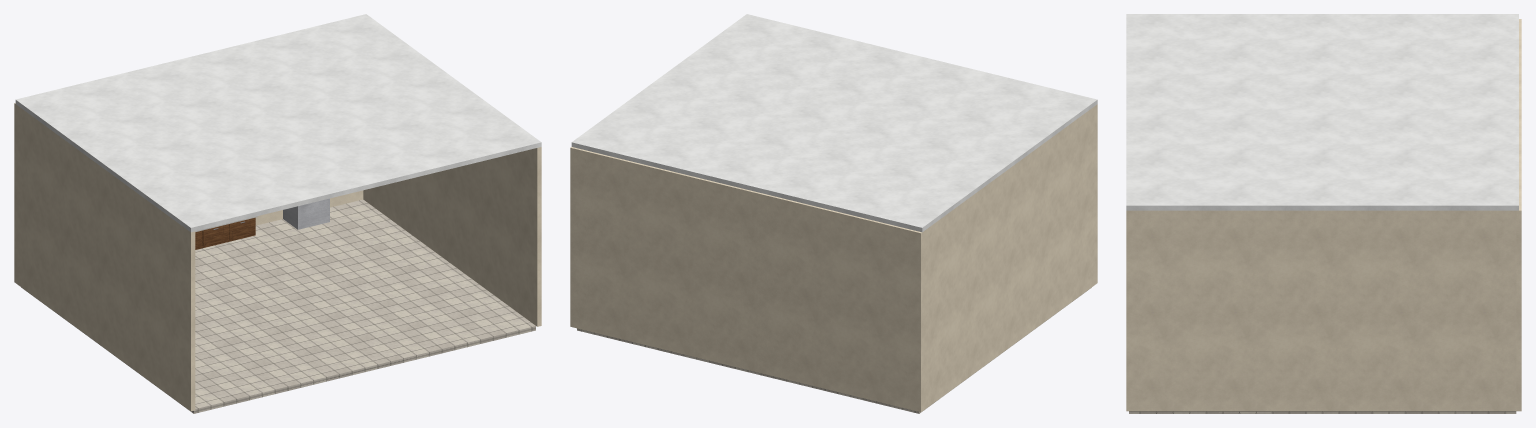
Rendered from PROP_BG_KITCHEN.glb.
3 renders of one model, left to right at view 1: azimuth 30°, elevation 25°; view 2: azimuth 150°, elevation 25°; view 3: azimuth 270°, elevation 25°, orthographic. The views are drawn at different scales.
Visible parts, largest first — view 1: PROP_BG_KITCHEN_4, PROP_BG_KITCHEN_0, PROP_BG_KITCHEN_2, PROP_BG_KITCHEN_3, PROP_BG_KITCHEN_1, PROP_BG_KITCHEN_48; view 2: PROP_BG_KITCHEN_1, PROP_BG_KITCHEN_4, PROP_BG_KITCHEN_2, PROP_BG_KITCHEN_0; view 3: PROP_BG_KITCHEN_3, PROP_BG_KITCHEN_4, PROP_BG_KITCHEN_1, PROP_BG_KITCHEN_0.
Boxes of the visible parts, left/top/right/bottom form: PROP_BG_KITCHEN_4: left=15, top=14, right=541, bottom=232; PROP_BG_KITCHEN_0: left=21, top=199, right=535, bottom=413; PROP_BG_KITCHEN_2: left=15, top=104, right=195, bottom=411; PROP_BG_KITCHEN_3: left=363, top=147, right=541, bottom=326; PROP_BG_KITCHEN_1: left=14, top=103, right=363, bottom=282; PROP_BG_KITCHEN_48: left=283, top=198, right=329, bottom=229; PROP_BG_KITCHEN_1: left=570, top=147, right=923, bottom=412; PROP_BG_KITCHEN_4: left=571, top=14, right=1097, bottom=232; PROP_BG_KITCHEN_2: left=922, top=104, right=1097, bottom=410; PROP_BG_KITCHEN_0: left=577, top=287, right=1091, bottom=413; PROP_BG_KITCHEN_3: left=1126, top=210, right=1518, bottom=411; PROP_BG_KITCHEN_4: left=1126, top=14, right=1518, bottom=210; PROP_BG_KITCHEN_1: left=1516, top=19, right=1521, bottom=411; PROP_BG_KITCHEN_0: left=1129, top=411, right=1516, bottom=413.
Size of the model in its own units: 16.4 by 8.4 by 14.3.
Materials: 17 (9 with a texture image).
